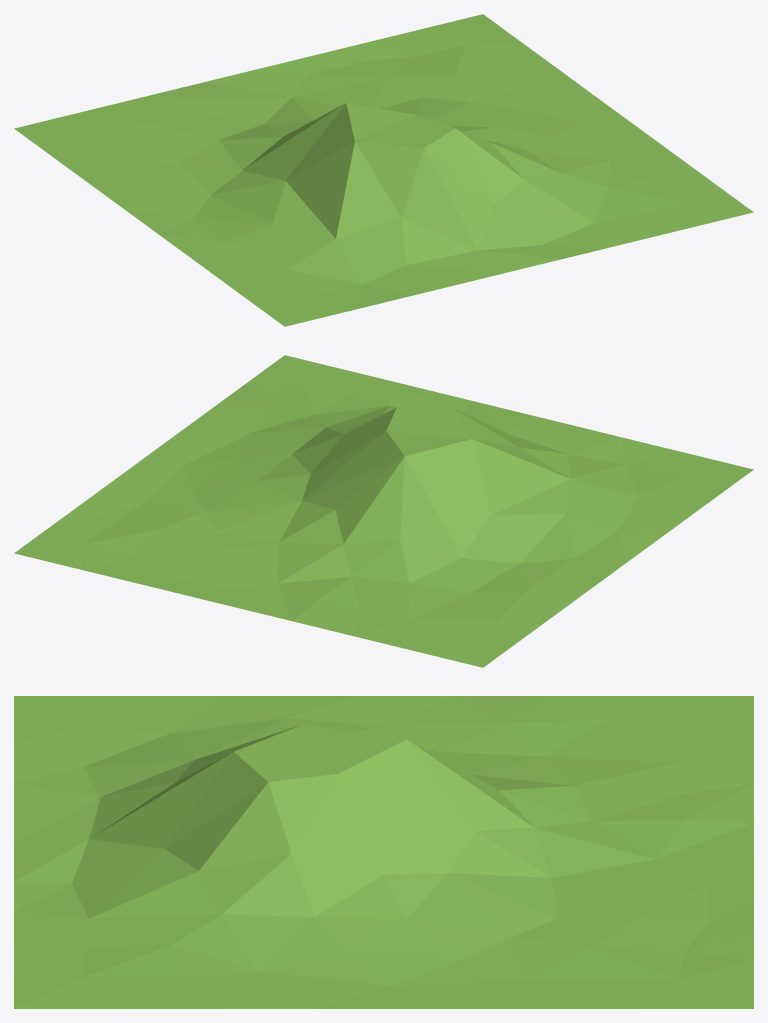
Rendered from MT_Terrain_S_a_23.fbx.
3 views of the same model, one above another, from view 1: azimuth 30°, elevation 25°; view 2: azimuth 150°, elevation 25°; view 3: azimuth 270°, elevation 25° (orthographic). The views are drawn at different scales.
Parts seen in each view (by area): view 1: MT_Terrain_S_a_23; view 2: MT_Terrain_S_a_23; view 3: MT_Terrain_S_a_23.
Part boxes in pixels (x1,y1,x2,y2): MT_Terrain_S_a_23: [14, 14, 753, 326]; MT_Terrain_S_a_23: [14, 355, 753, 667]; MT_Terrain_S_a_23: [14, 696, 753, 1008].
Bounding box in the file's own units: 2500 × 357 × 2500.
